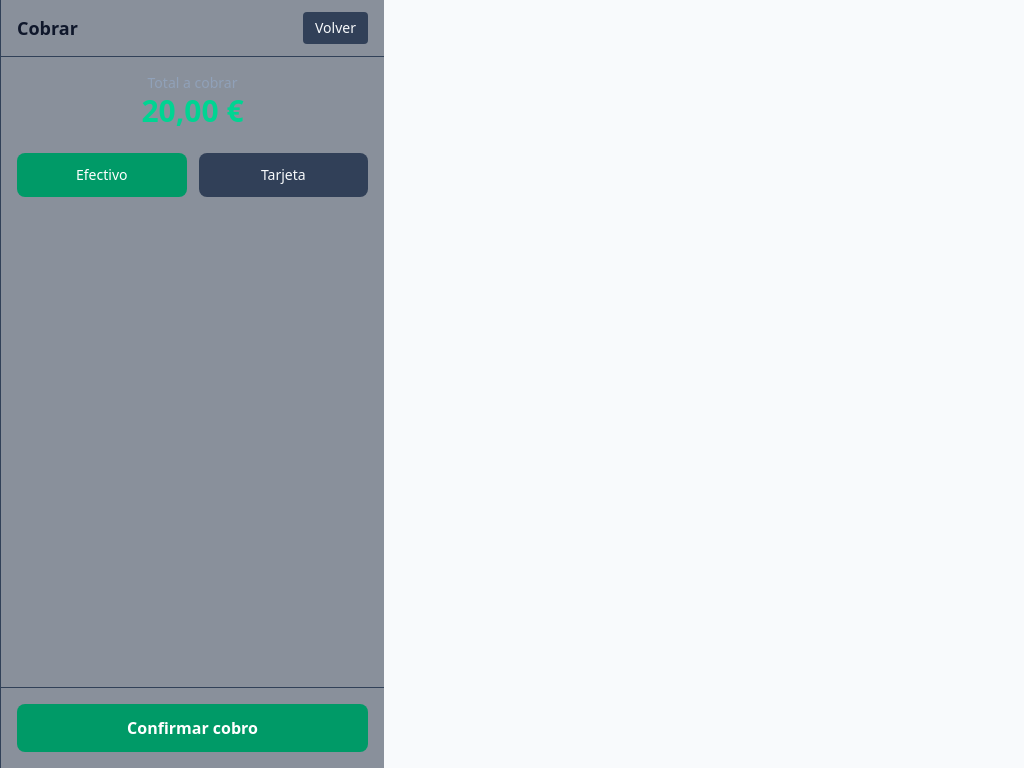
Test: Checkout › disables confirming and warns when the amount does not cover the total
What coordinates should you click on to do the following:
click the button "Efectivo"
I would click on:
 (102, 175)
Its box is top-left (17, 153), bottom-right (186, 197).
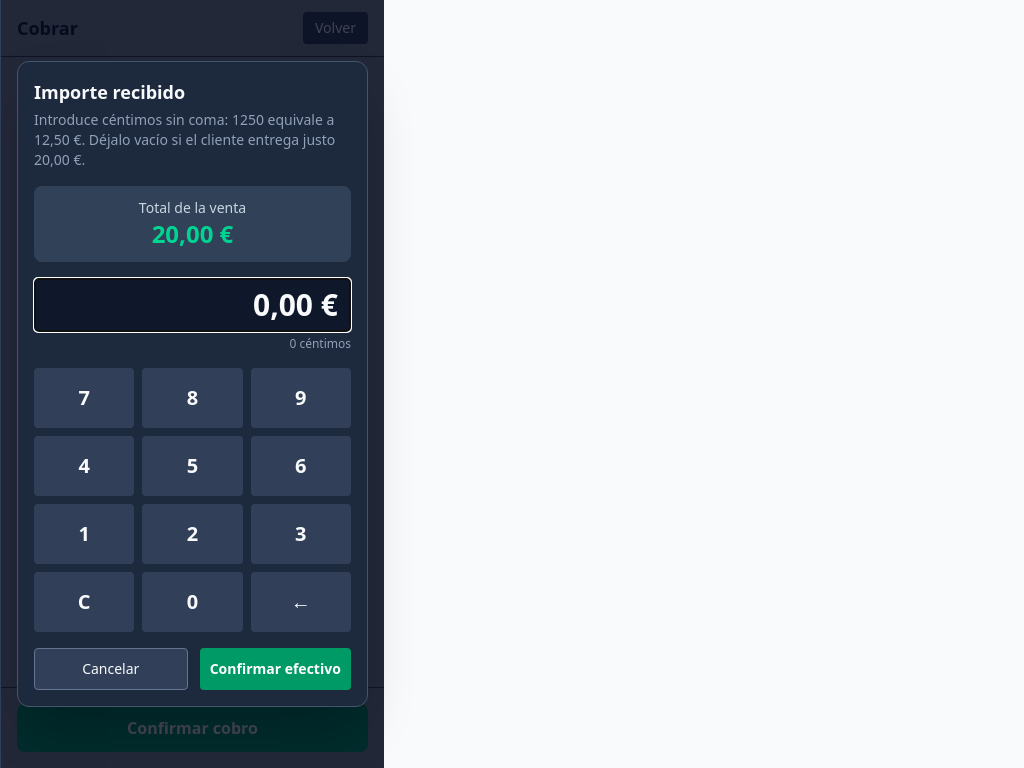
What coordinates should you click on to do the following:
click the button "5"
I would click on:
 (192, 466)
Its box is top-left (142, 436), bottom-right (243, 496).
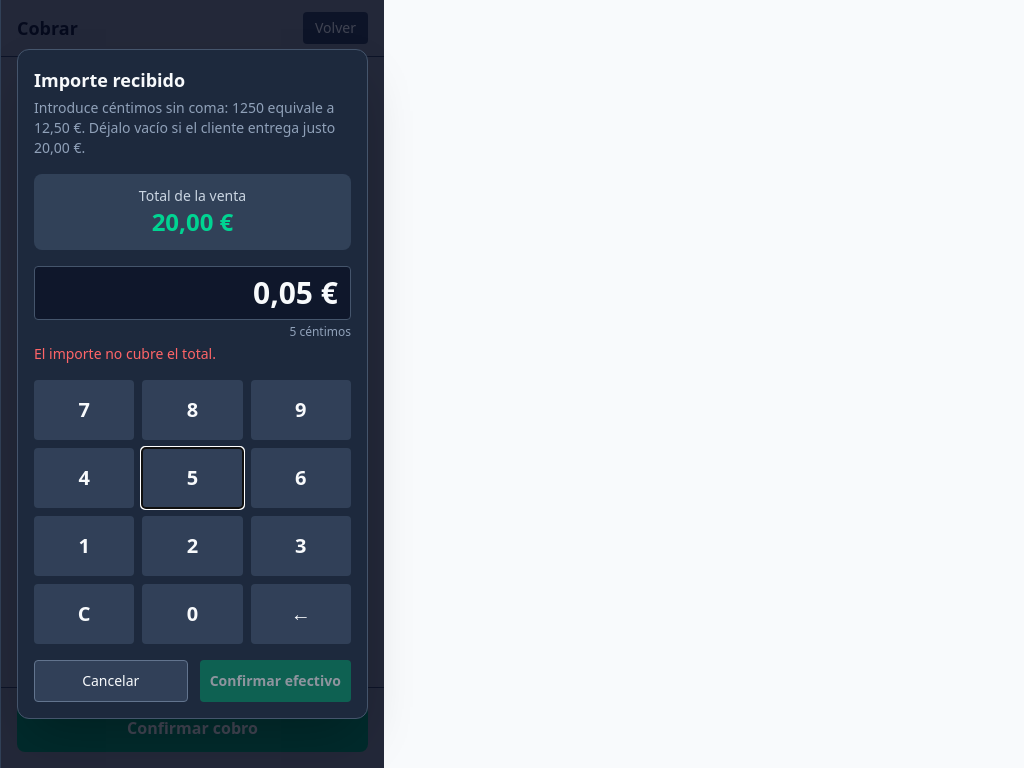
Now the text "El importe no cubre el total." is shown, box top-left (34, 344), bottom-right (216, 363)
Now the button "Confirmar efectivo" is disabled, box top-left (200, 660), bottom-right (351, 702)
